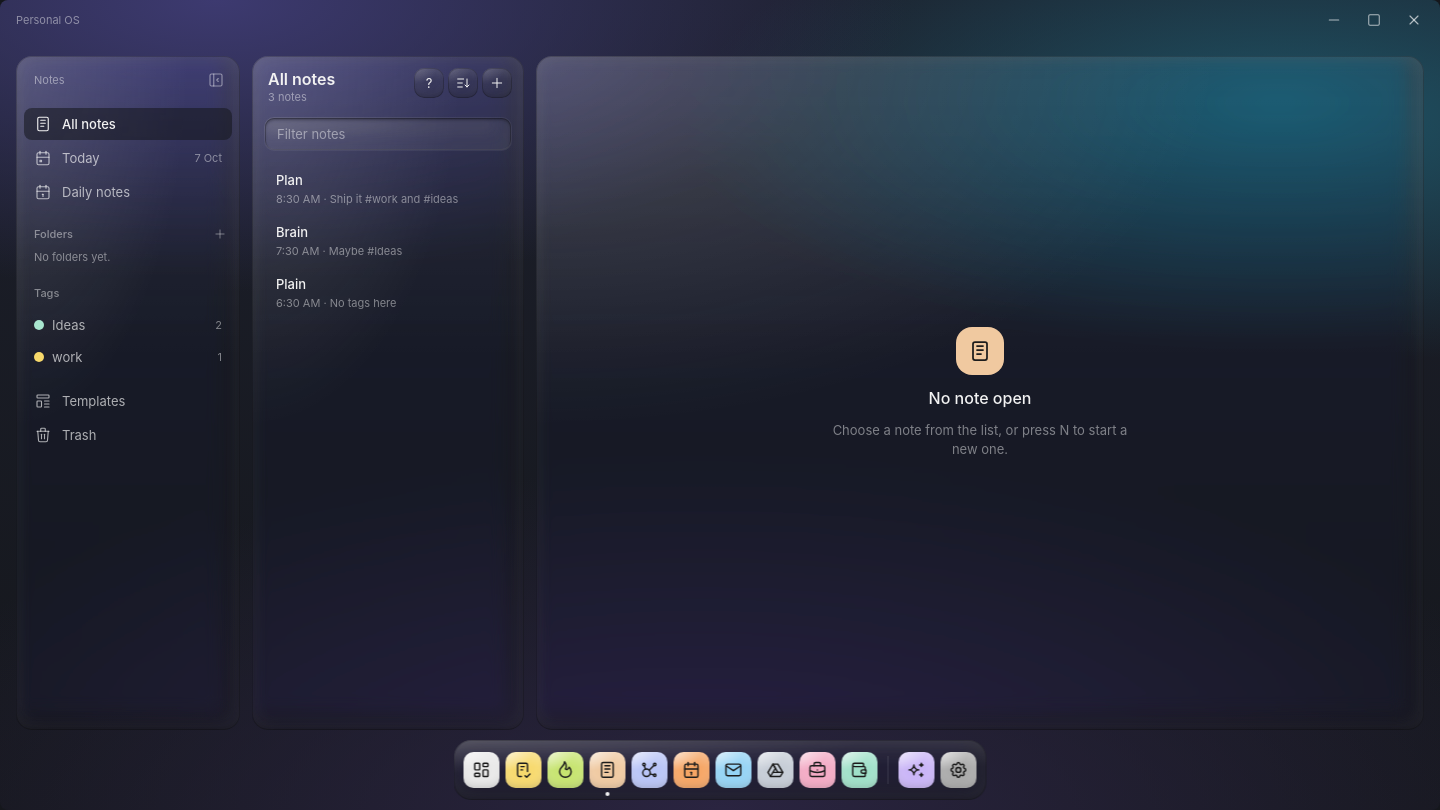
Test: the Tags section of the side panel › filters the list by the chosen tag and asks the server with tagId
expect the text "Plan" is shown: met, box top-left (276, 171), bottom-right (303, 190)
Click the link with aria-label "#Ideas, 2 notes" at (69, 324), box top-left (34, 316), bottom-right (222, 332)
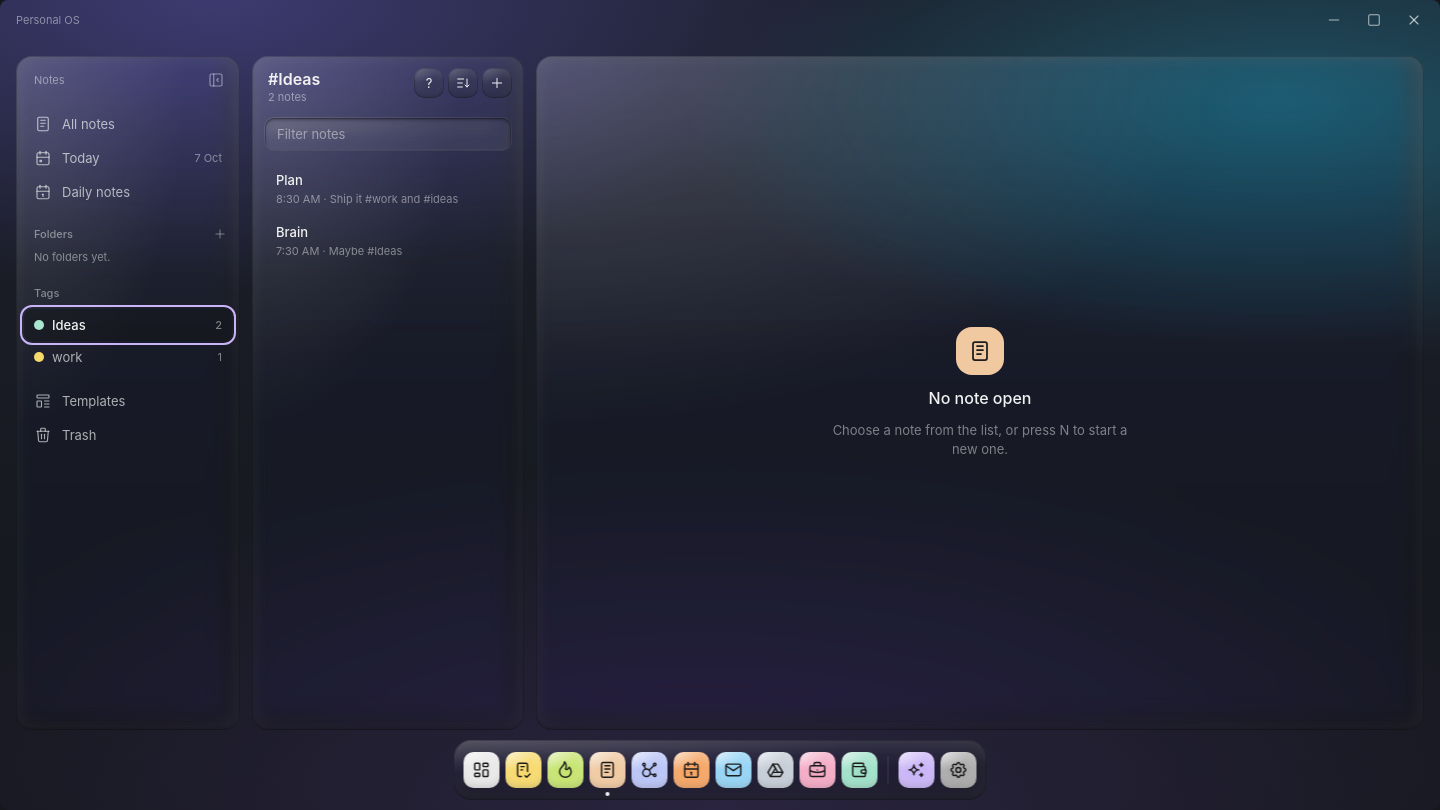
expect the heading "#Ideas" is shown: met, box top-left (268, 68), bottom-right (320, 90)
